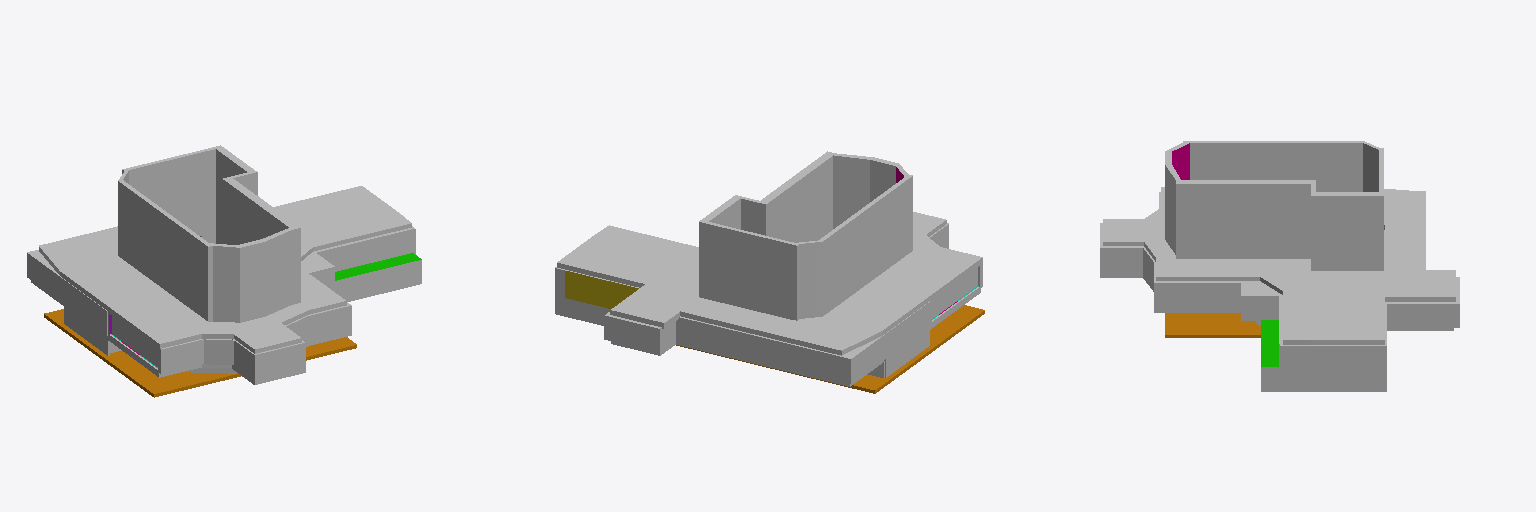
Rendered from map1_collider.obj.
The picture shows the model from 3 angles: view 1: azimuth 30°, elevation 25°; view 2: azimuth 150°, elevation 25°; view 3: azimuth 270°, elevation 25°; orthographic projection.
Parts seen in each view (by area): view 1: Cube; view 2: Cube; view 3: Cube.
Part boxes in pixels (left/top/right/bottom): Cube: left=27, top=145, right=421, bottom=397; Cube: left=555, top=151, right=984, bottom=393; Cube: left=1100, top=141, right=1459, bottom=391.
Size of the model in its own units: 103 by 42.13 by 100.